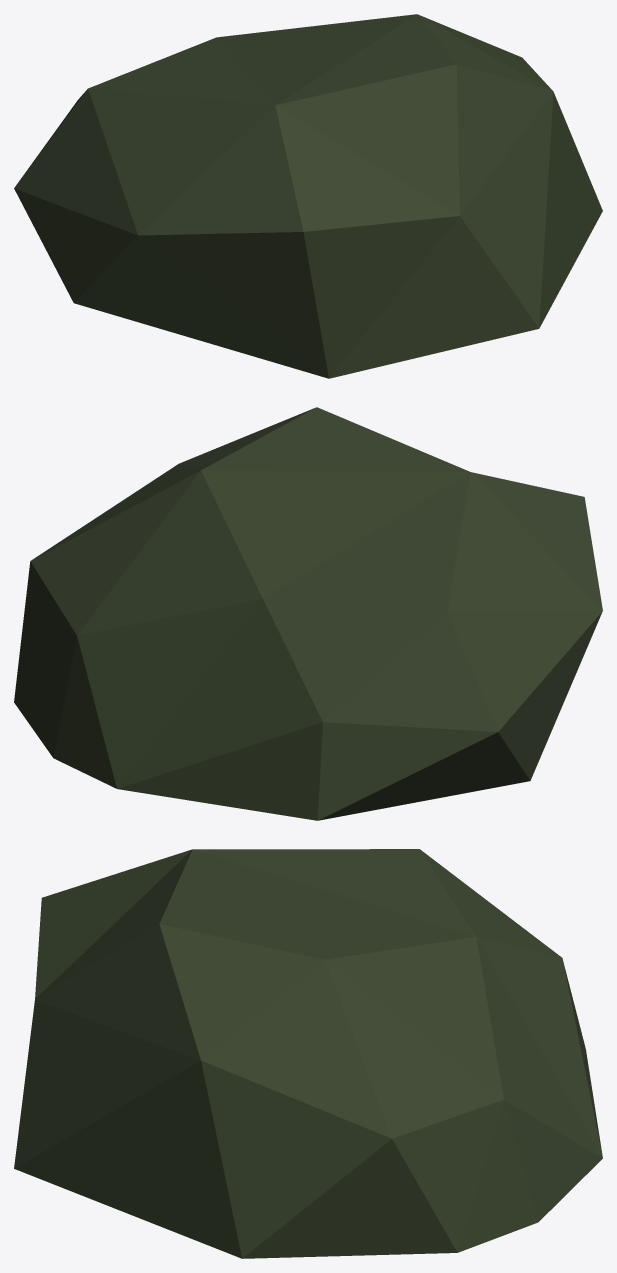
File: EA_Rock31_Big.glb
3 views of the same model, one above another, from view 1: azimuth 30°, elevation 25°; view 2: azimuth 150°, elevation 25°; view 3: azimuth 270°, elevation 25° (orthographic). The views are drawn at different scales.
Parts seen in each view (by area): view 1: EA_Rock31_Big; view 2: EA_Rock31_Big; view 3: EA_Rock31_Big.
Part boxes in pixels (box(x1,y1,x2,y2)): EA_Rock31_Big: box(14, 14, 602, 378); EA_Rock31_Big: box(14, 407, 602, 820); EA_Rock31_Big: box(14, 849, 602, 1258).
Bounding box in the file's own units: 1.59 × 0.7259 × 1.52.
1 material, 1 textured.
